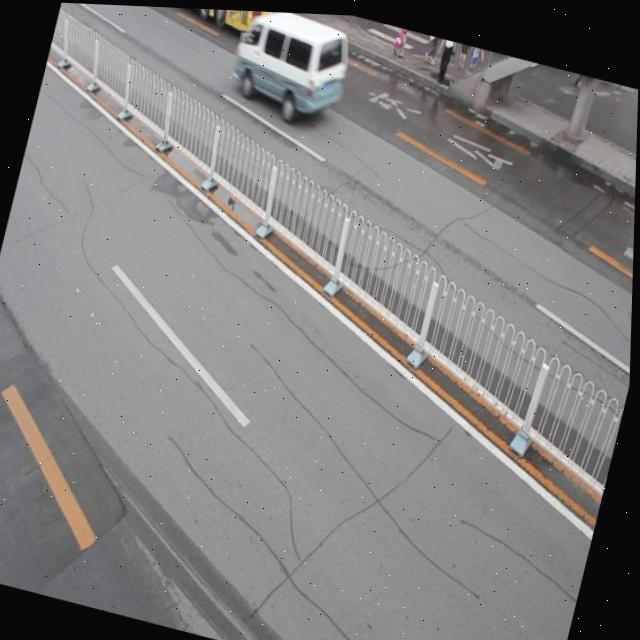truck: (224, 8, 357, 125)
van: (118, 4, 294, 42)
